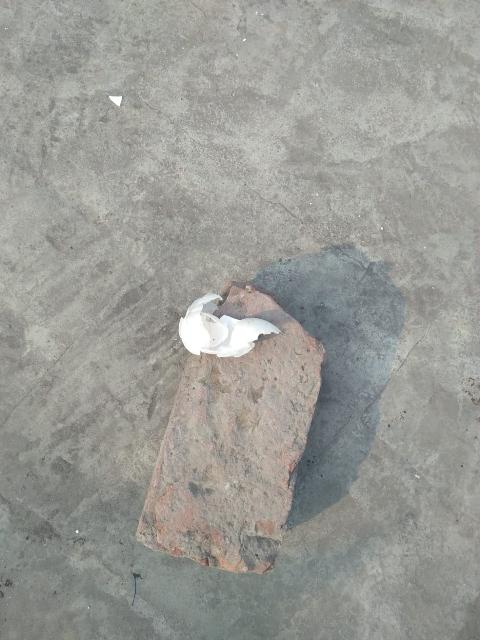Roto: (178, 292, 227, 356), (227, 316, 282, 357), (108, 94, 122, 107)
